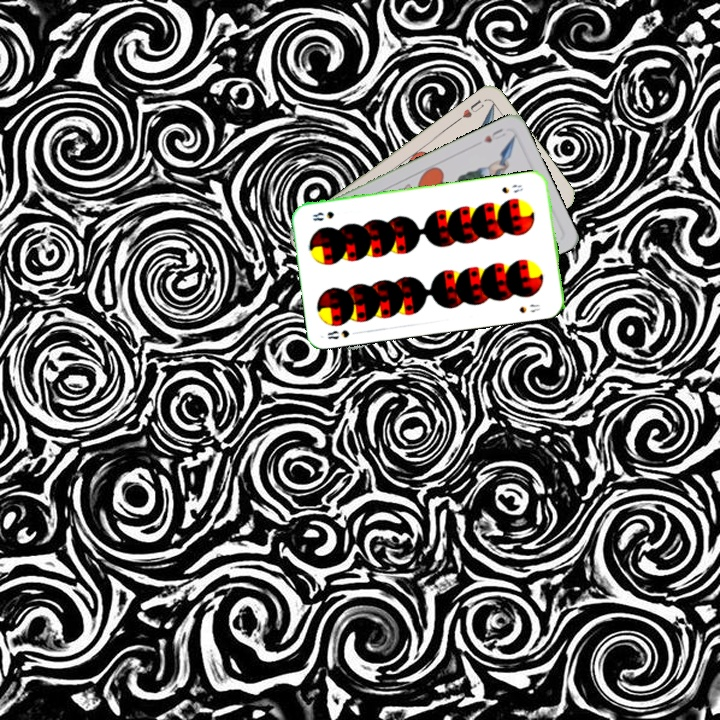HU: (453, 96, 486, 124), (480, 124, 510, 145)
S8: (324, 326, 362, 342), (498, 181, 525, 196)
